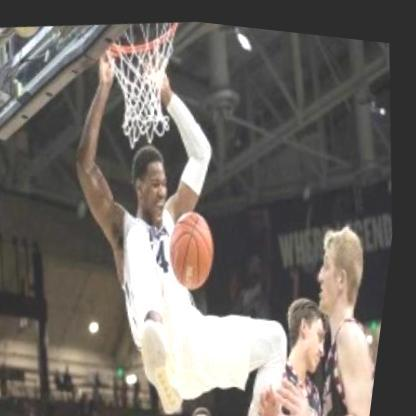basketball: (162, 198, 233, 295)
